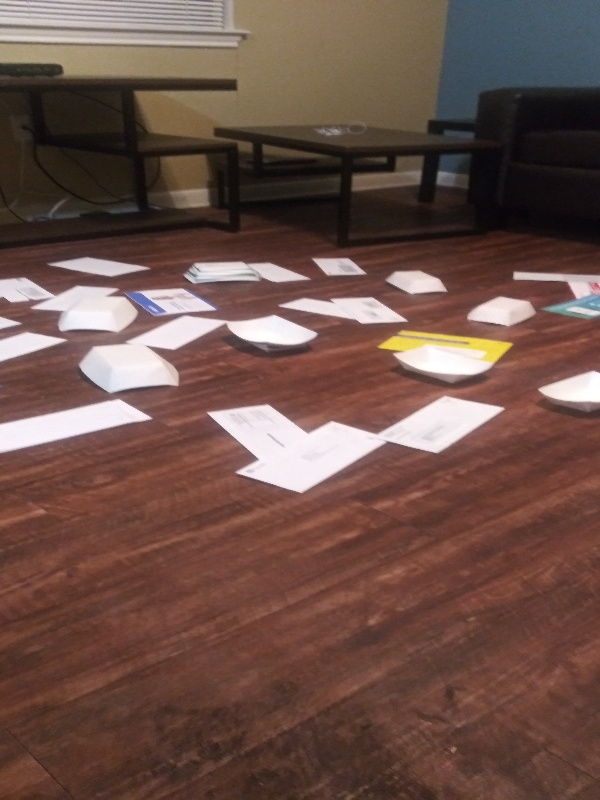plate: (78, 342, 182, 397), (390, 342, 502, 388), (224, 314, 324, 358), (530, 366, 600, 424), (56, 293, 138, 339), (463, 290, 539, 331), (178, 256, 266, 287), (381, 267, 449, 297)
